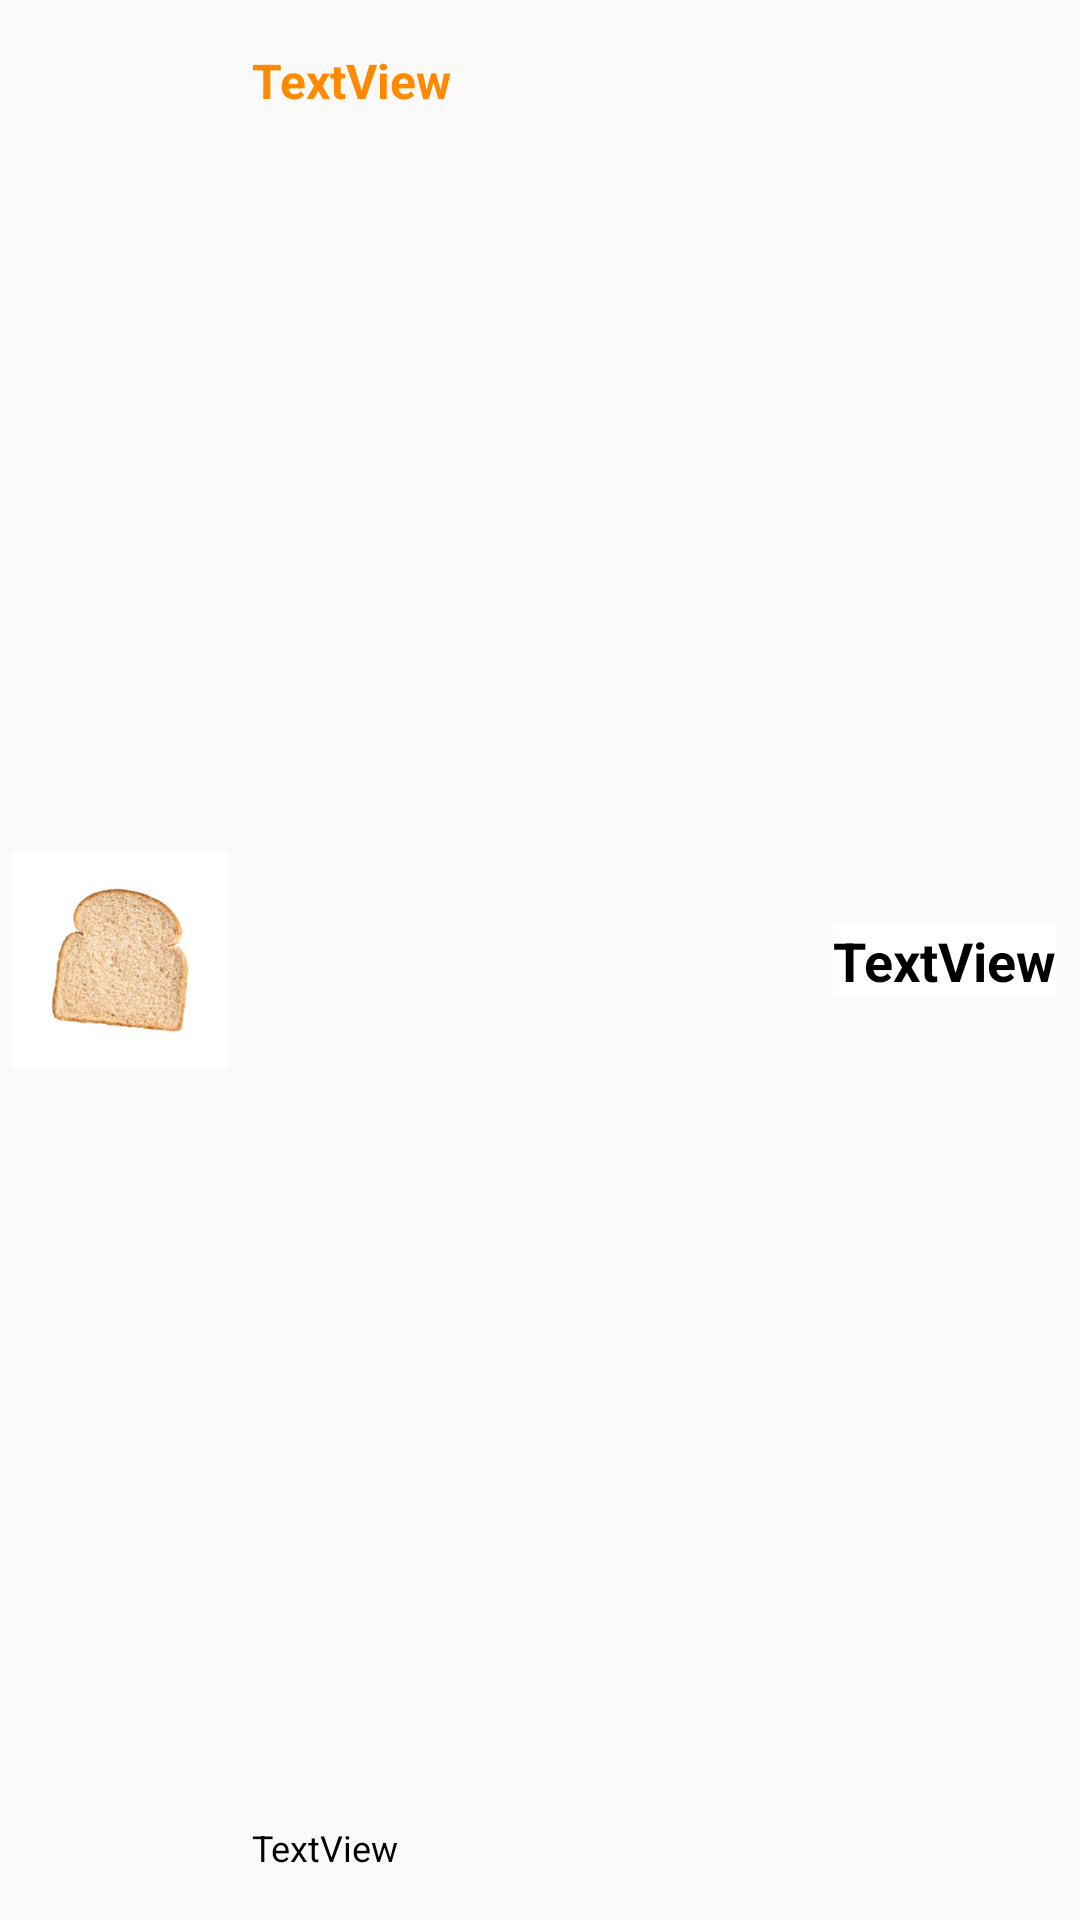

Icon bounding boxes for this 1080w x 1920h phone screenshot, format (x1, y1, x2, y2):
bread: (52, 889, 188, 1032)
